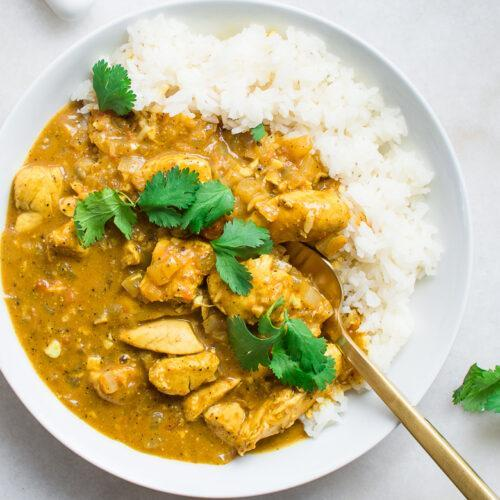chicken: (29, 106, 330, 453)
rice: (339, 96, 426, 395), (127, 22, 390, 117)
